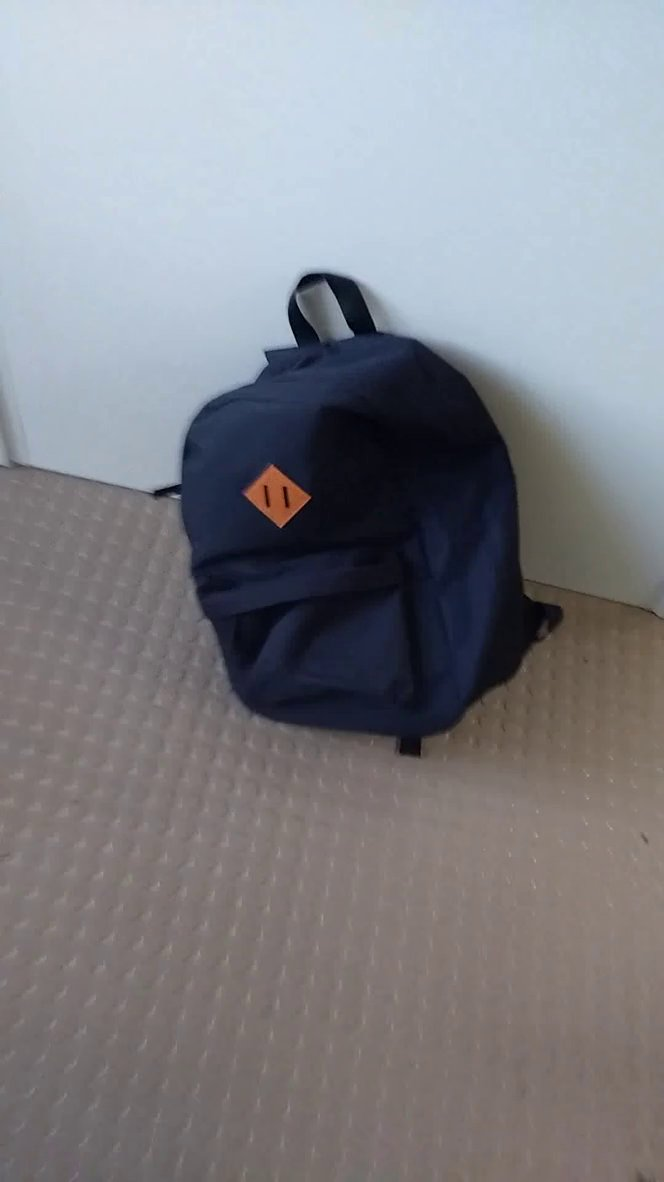bag: (142, 261, 579, 767)
